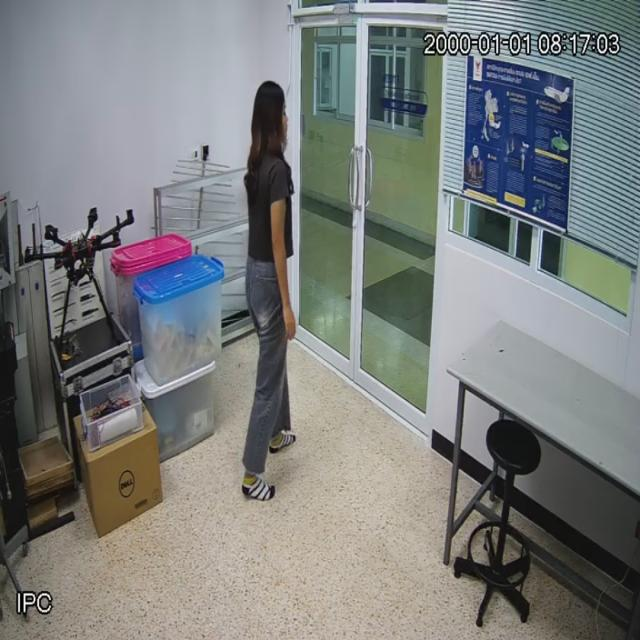normal: (235, 70, 302, 508)
